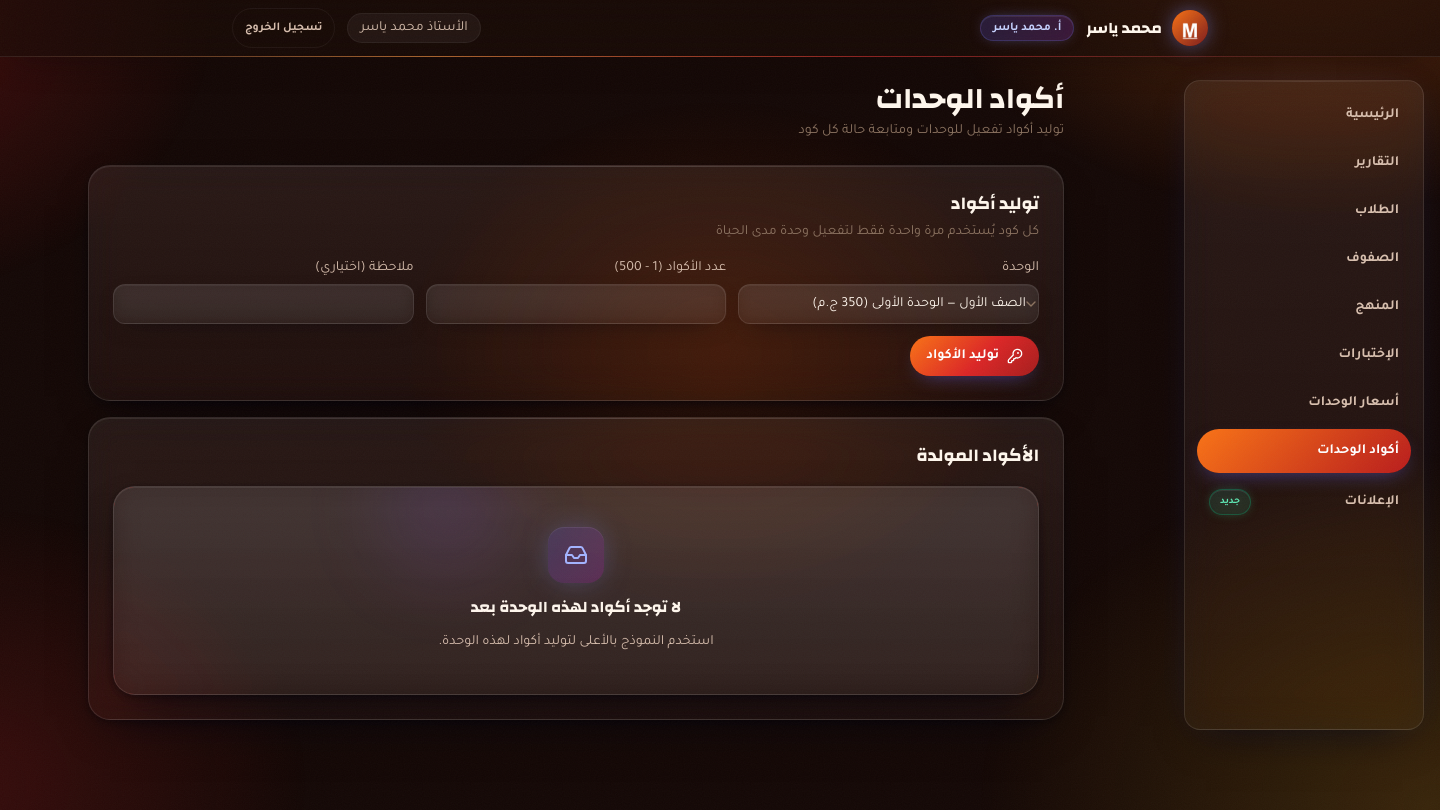
Test: CodesPage › surfaces the unit_not_found RPC error as an Arabic message
Type "2" into the number field labelled "عدد الأكواد (1 - 500)" at point(576, 304), box [426,284,726,324]
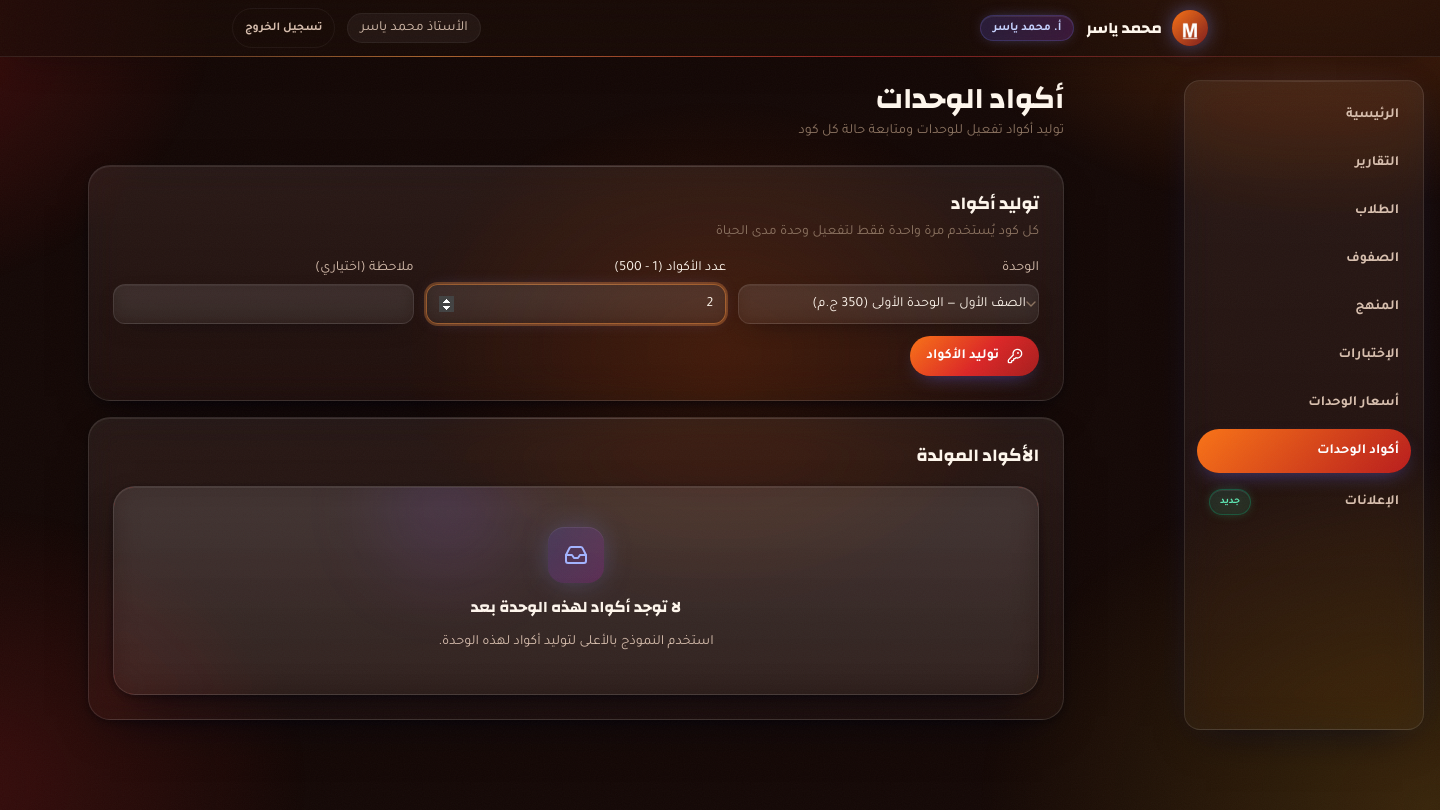
Click the button "توليد الأكواد" at point(975, 356), box [910,336,1039,376]
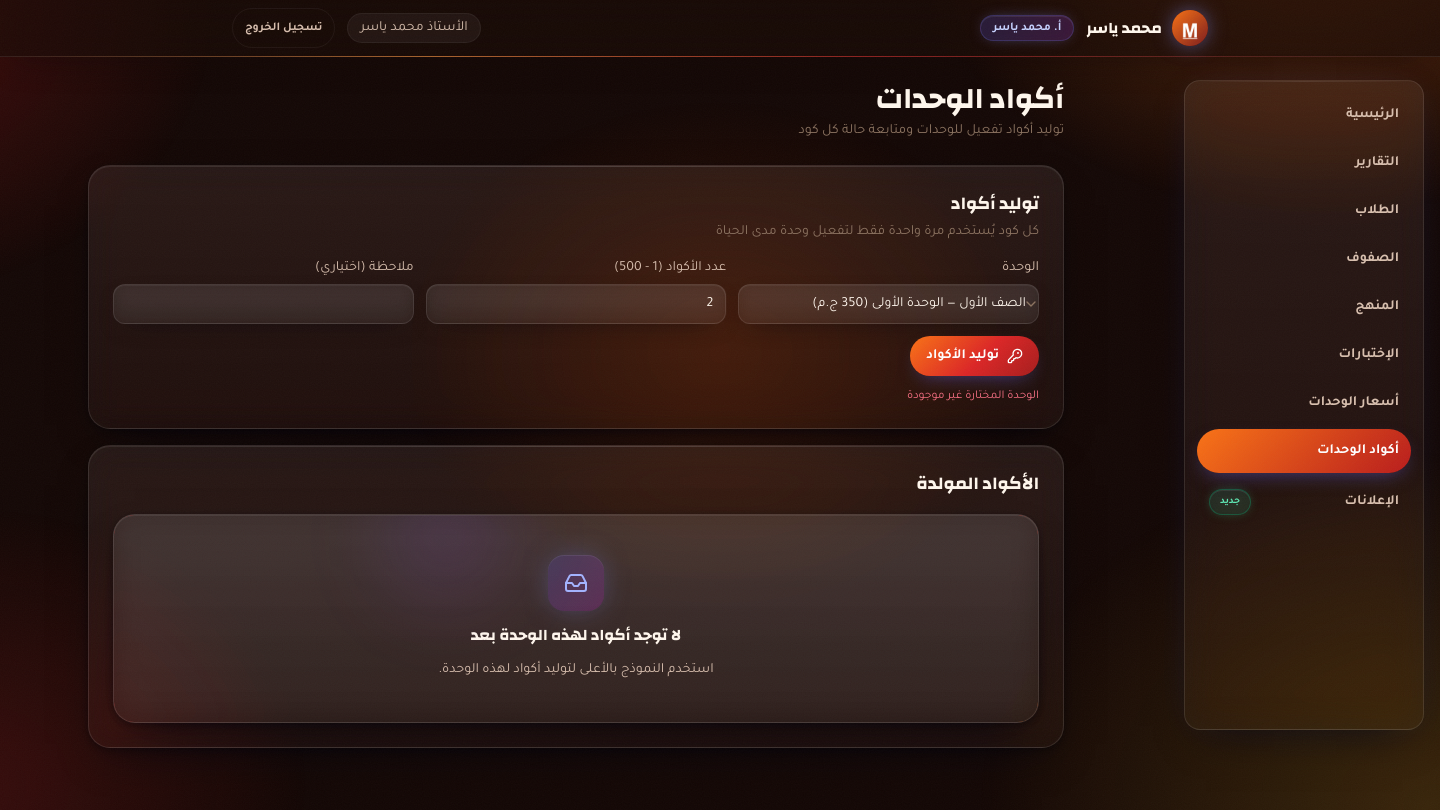
Expected: the text "الوحدة المختارة غير موجودة" is shown, [907,390,1039,402]
